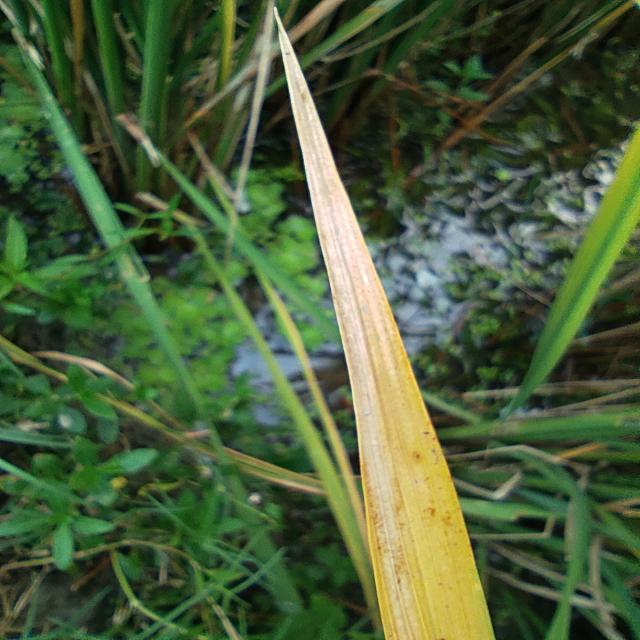Bacterial_Leaf_Blight: (278, 9, 424, 640)
